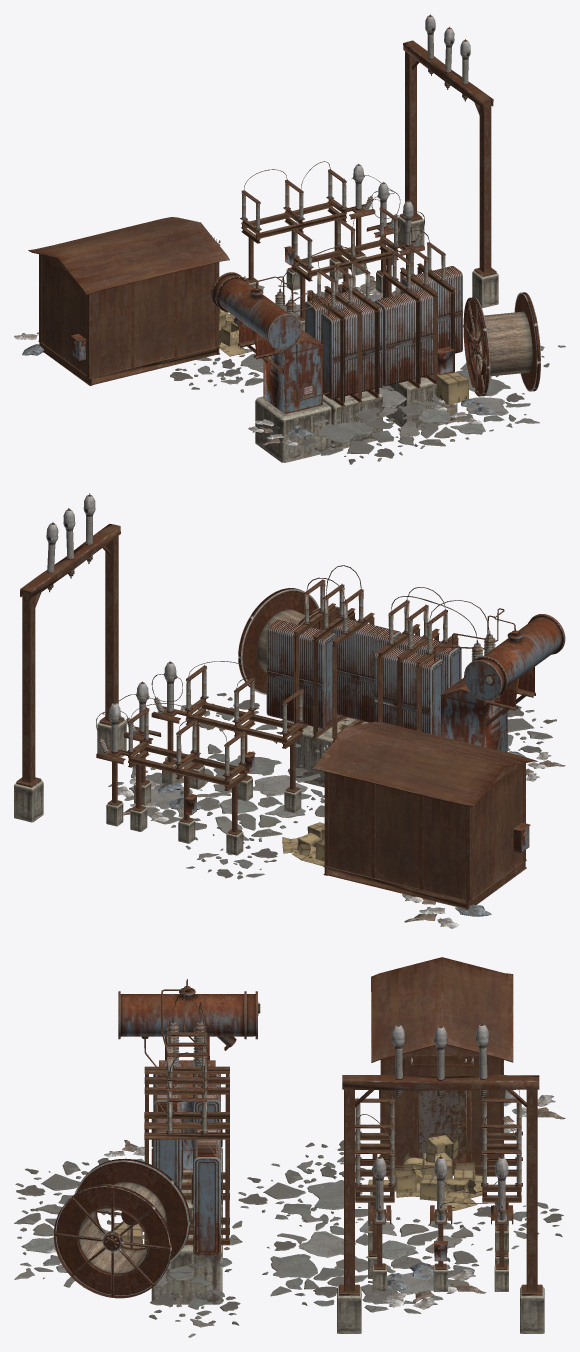
File: tropical_island_dwelling_a.glb
The picture shows the model from 3 angles, top to bottom: view 1: azimuth 30°, elevation 25°; view 2: azimuth 150°, elevation 25°; view 3: azimuth 270°, elevation 25°; orthographic projection. The views are drawn at different scales.
Visible parts, largest first — view 1: substation_d_LOD0, substation_b_LOD0, substation_c_LOD0, substation_e_LOD0, substation_f_LOD0 (×2), large_industrial_prop_d_a (1), concrete_debris_c (16), substation_g_LOD0, concrete_debris_a (35), cardboard_box_b (1), cardboard_box_pile_a (1), concrete_debris_b (23) (+3 smaller); view 2: substation_d_LOD0, substation_b_LOD0, substation_c_LOD0, substation_f_LOD0 (×2), substation_e_LOD0, concrete_debris_c (15), substation_g_LOD0, large_industrial_prop_d_a (1), cardboard_box_pile_a (1), ground_cloth_a (84), concrete_debris_a (35), ground_cloth_a (83) (+1 smaller); view 3: substation_d_LOD0, large_industrial_prop_d_a (1), substation_b_LOD0, substation_e_LOD0, substation_c_LOD0, concrete_debris_c (15), substation_f_LOD0 (×2), substation_g_LOD0, cardboard_box_pile_a (1), concrete_debris_a (34), concrete_debris_c (16), ground_cloth_a (83) (+5 smaller).
Part boxes in pixels (bbox=[...]): substation_d_LOD0: bbox=[28, 217, 229, 385]; substation_b_LOD0: bbox=[211, 246, 382, 462]; substation_c_LOD0: bbox=[375, 227, 462, 430]; substation_e_LOD0: bbox=[398, 14, 498, 308]; substation_f_LOD0 (×2): bbox=[240, 161, 399, 330]; large_industrial_prop_d_a (1): bbox=[463, 292, 540, 396]; concrete_debris_c (16): bbox=[357, 363, 539, 448]; substation_g_LOD0: bbox=[346, 163, 424, 293]; concrete_debris_a (35): bbox=[299, 412, 406, 464]; cardboard_box_b (1): bbox=[436, 372, 469, 404]; cardboard_box_pile_a (1): bbox=[219, 308, 248, 356]; concrete_debris_b (23): bbox=[170, 357, 257, 392]; substation_d_LOD0: bbox=[313, 721, 537, 909]; substation_b_LOD0: bbox=[374, 587, 565, 754]; substation_c_LOD0: bbox=[266, 565, 401, 787]; substation_f_LOD0 (×2): bbox=[126, 661, 304, 855]; substation_e_LOD0: bbox=[14, 493, 126, 822]; concrete_debris_c (15): bbox=[108, 744, 324, 841]; substation_g_LOD0: bbox=[96, 661, 186, 826]; large_industrial_prop_d_a (1): bbox=[238, 588, 356, 694]; cardboard_box_pile_a (1): bbox=[282, 822, 324, 866]; ground_cloth_a (84): bbox=[402, 894, 491, 928]; concrete_debris_a (35): bbox=[507, 706, 556, 752]; ground_cloth_a (83): bbox=[117, 777, 201, 822]; substation_d_LOD0: bbox=[371, 957, 513, 1175]; large_industrial_prop_d_a (1): bbox=[53, 1158, 190, 1298]; substation_b_LOD0: bbox=[118, 979, 260, 1257]; substation_e_LOD0: bbox=[337, 1023, 544, 1333]; substation_c_LOD0: bbox=[141, 1052, 229, 1304]; concrete_debris_c (15): bbox=[262, 1213, 492, 1313]; substation_f_LOD0 (×2): bbox=[355, 1090, 522, 1278]; substation_g_LOD0: bbox=[369, 1155, 513, 1291]; cardboard_box_pile_a (1): bbox=[368, 1135, 482, 1210]; concrete_debris_a (34): bbox=[238, 1166, 372, 1225]; concrete_debris_c (16): bbox=[14, 1204, 242, 1290]; ground_cloth_a (83): bbox=[382, 1262, 486, 1309].
Size of the model in its own units: 14.53 by 9.39 by 13.57.
9 materials, 9 textured.
